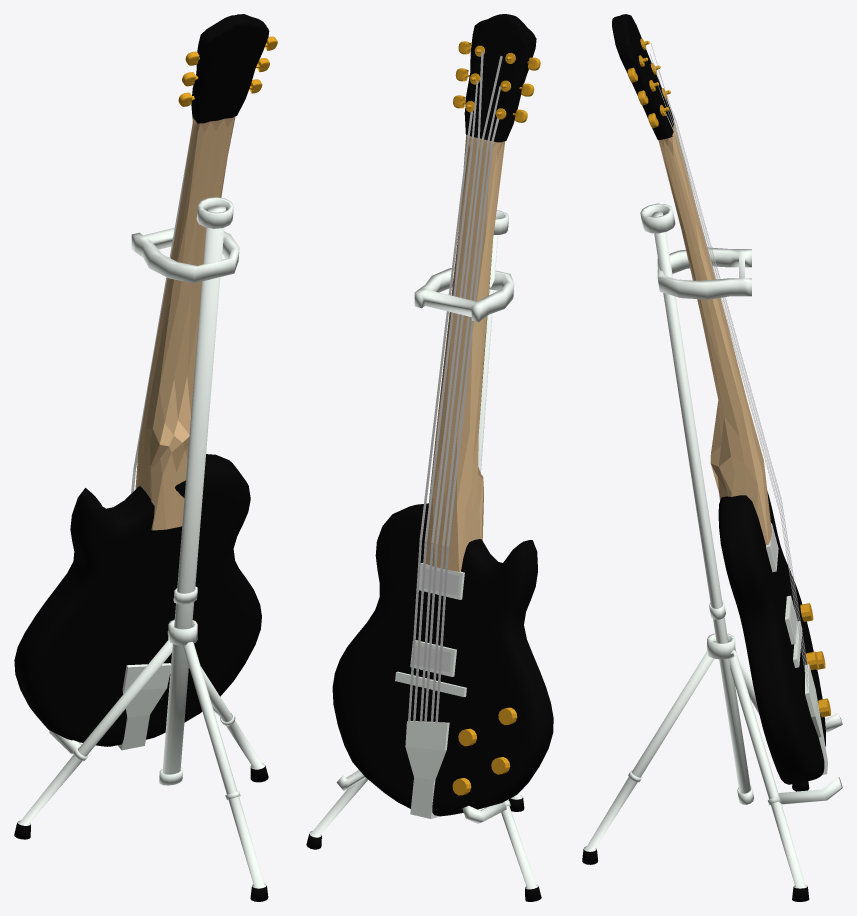
File: GuitarStand.fbx
The picture shows the model from 3 angles, left to right: view 1: azimuth 30°, elevation 25°; view 2: azimuth 150°, elevation 25°; view 3: azimuth 270°, elevation 25°; orthographic projection. The views are drawn at different scales.
Visible parts, largest first — view 1: GuitarStand; view 2: GuitarStand; view 3: GuitarStand.
Boxes of the visible parts, x1,y1,x2,y2 form: GuitarStand: (14,14,277,901); GuitarStand: (306,14,553,901); GuitarStand: (582,14,842,901).
Size of the model in its own units: 4155 by 13637 by 3830.
